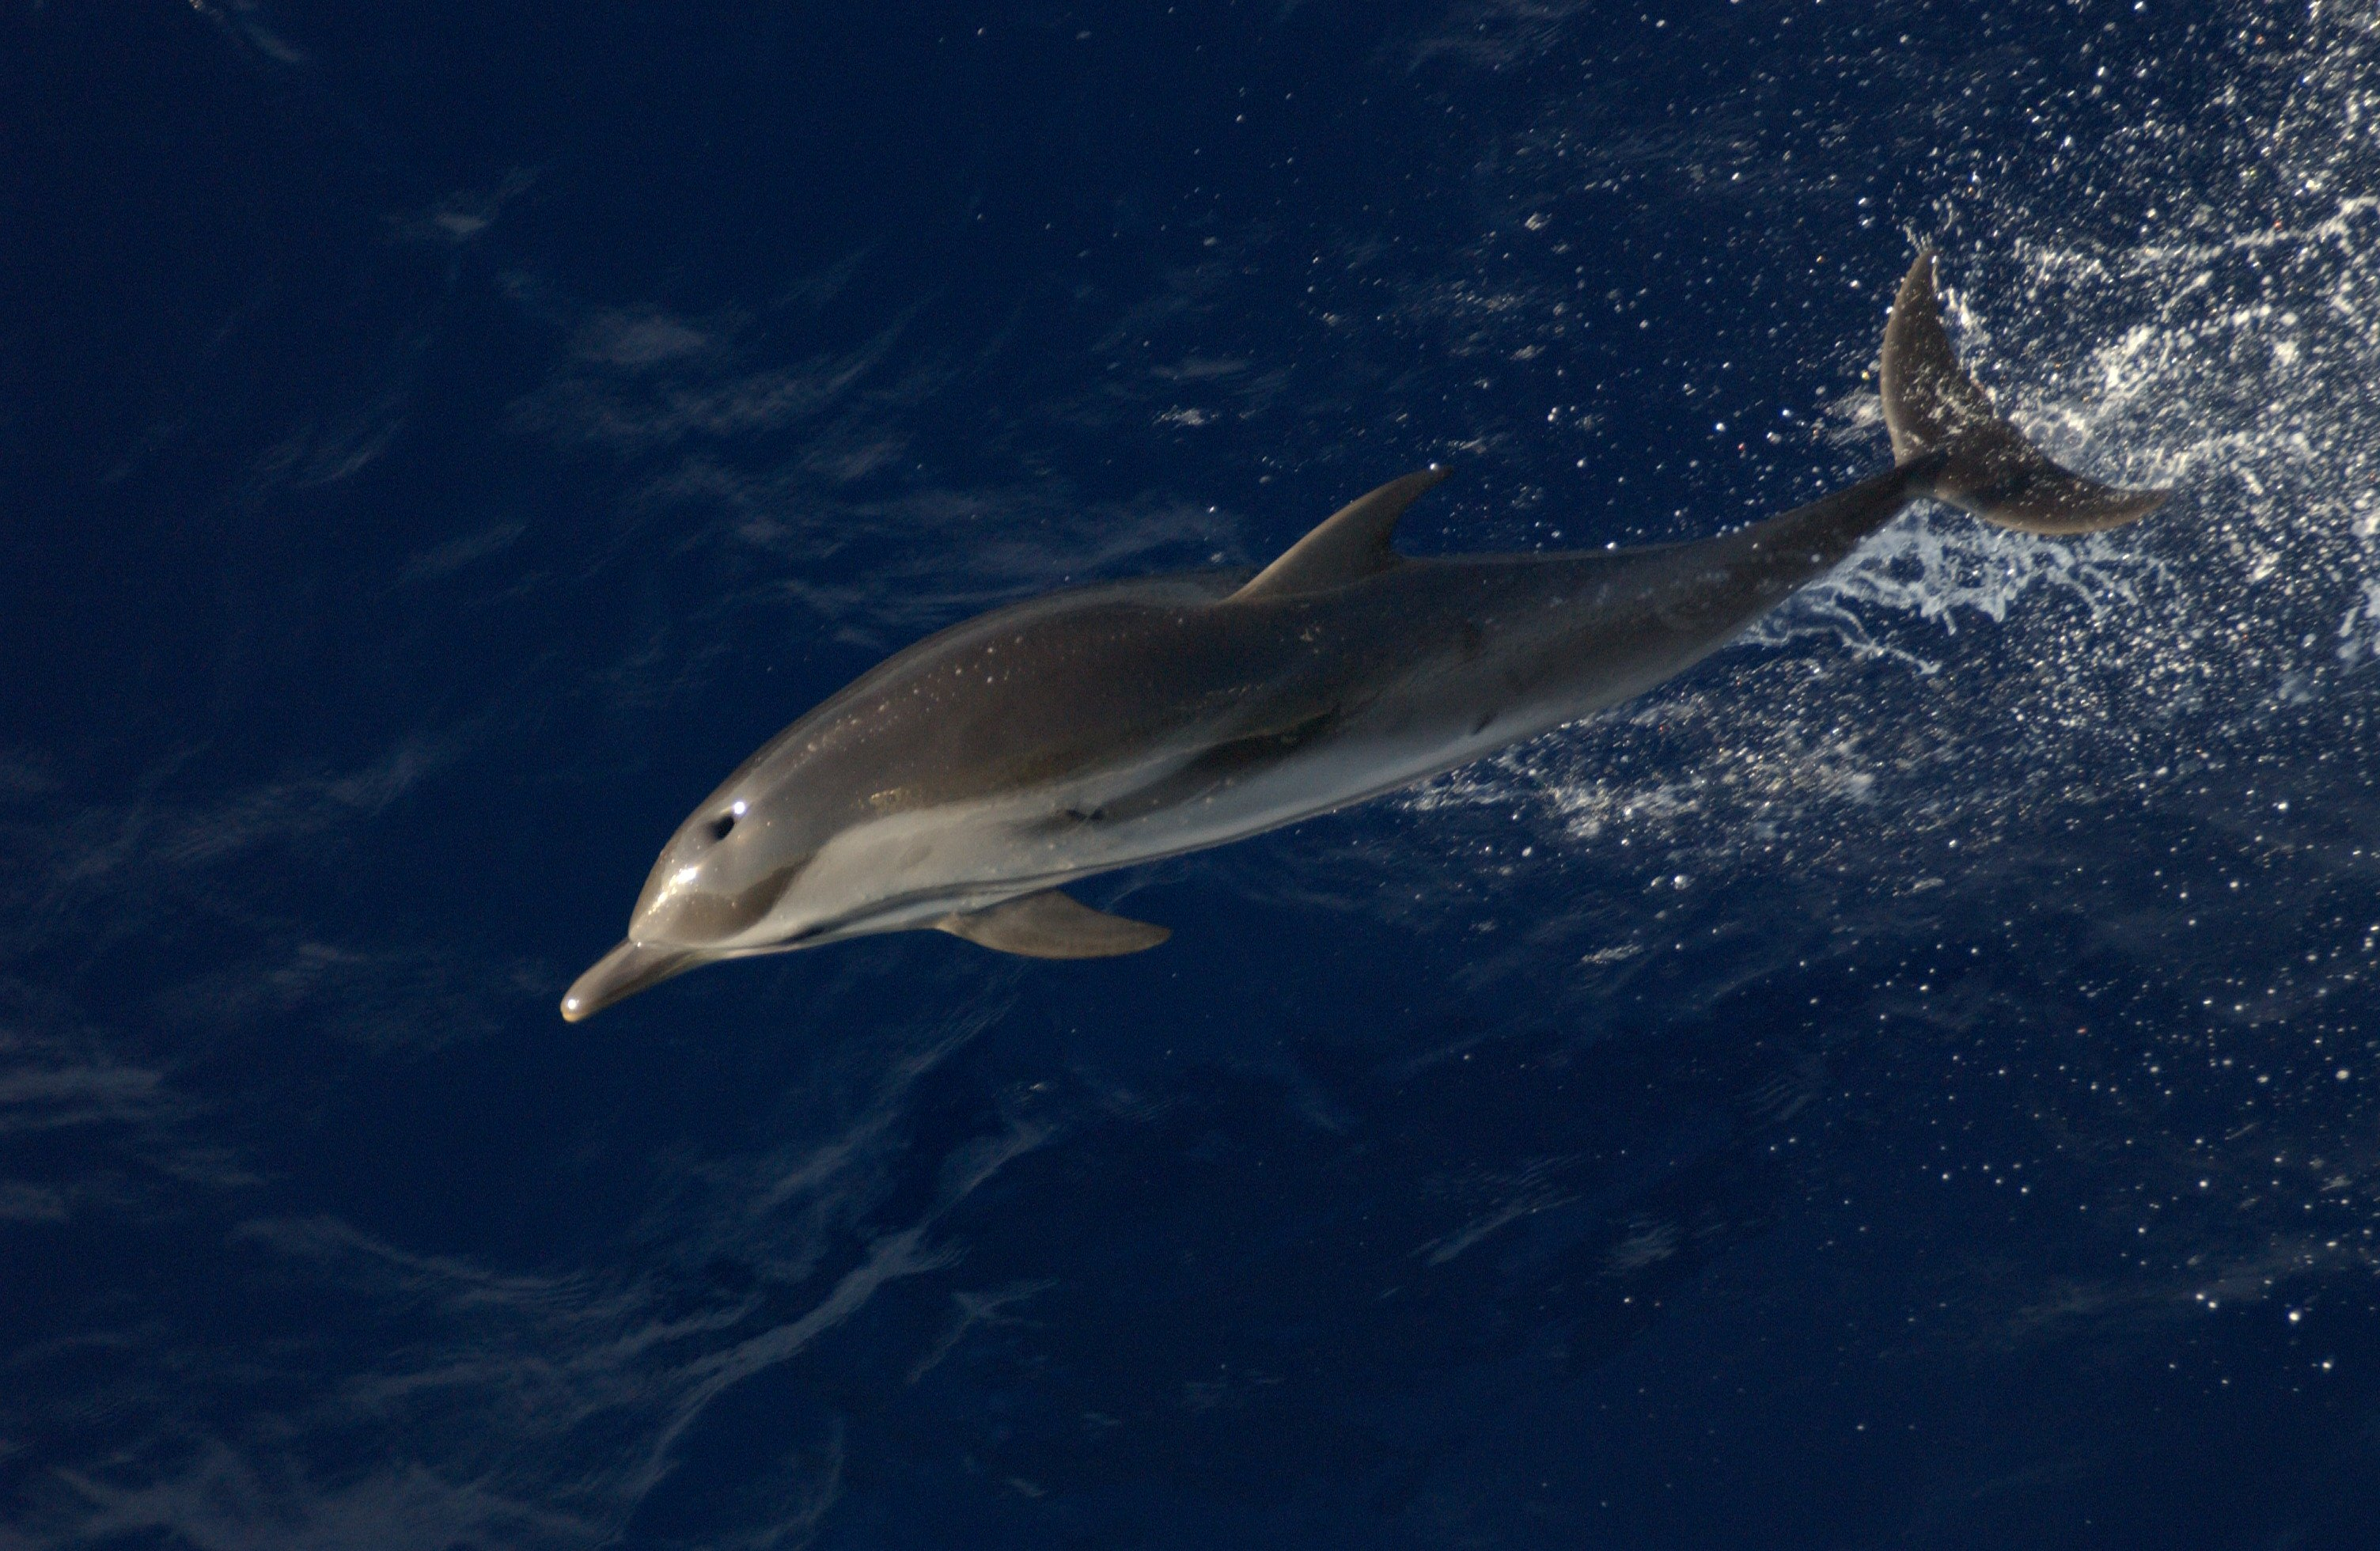dolphin: (545, 248, 2175, 1029)
